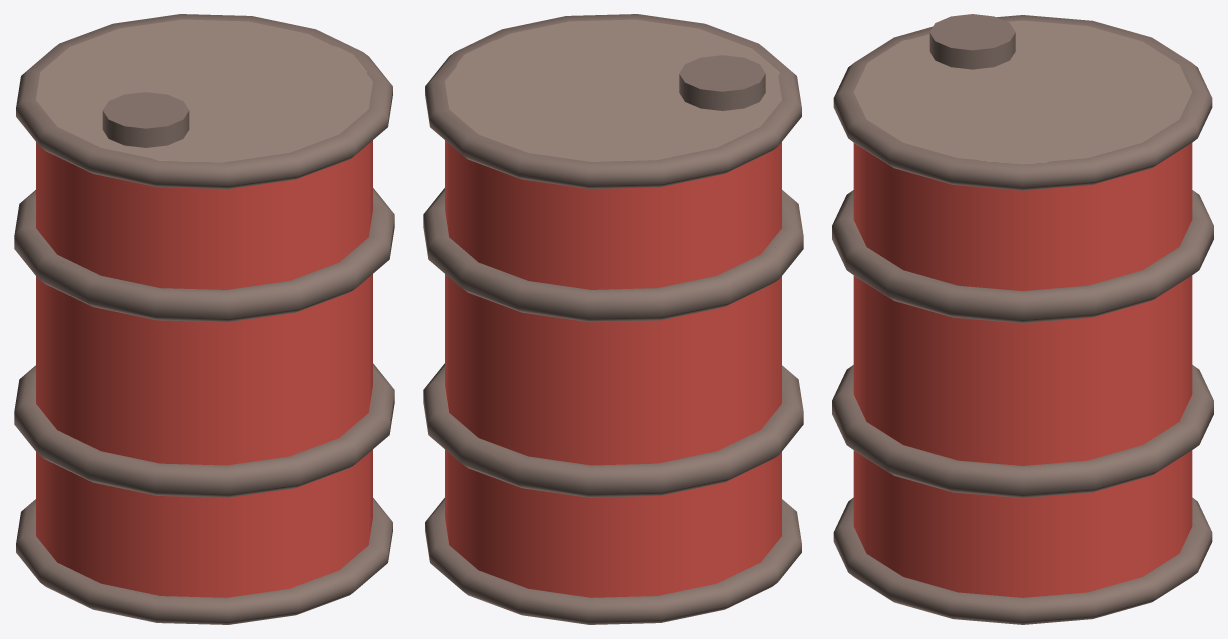
File: ExplosiveBarrel.fbx
The picture shows the model from 3 angles, left to right: view 1: azimuth 30°, elevation 25°; view 2: azimuth 150°, elevation 25°; view 3: azimuth 270°, elevation 25°; orthographic projection.
Parts seen in each view (by area): view 1: OilBarrel; view 2: OilBarrel; view 3: OilBarrel.
Boxes of the visible parts, bbox=[...] form: OilBarrel: bbox=[14, 14, 394, 624]; OilBarrel: bbox=[423, 14, 803, 624]; OilBarrel: bbox=[832, 14, 1213, 624].
Bounding box in the file's own units: 1.6 × 2.19 × 1.6.
